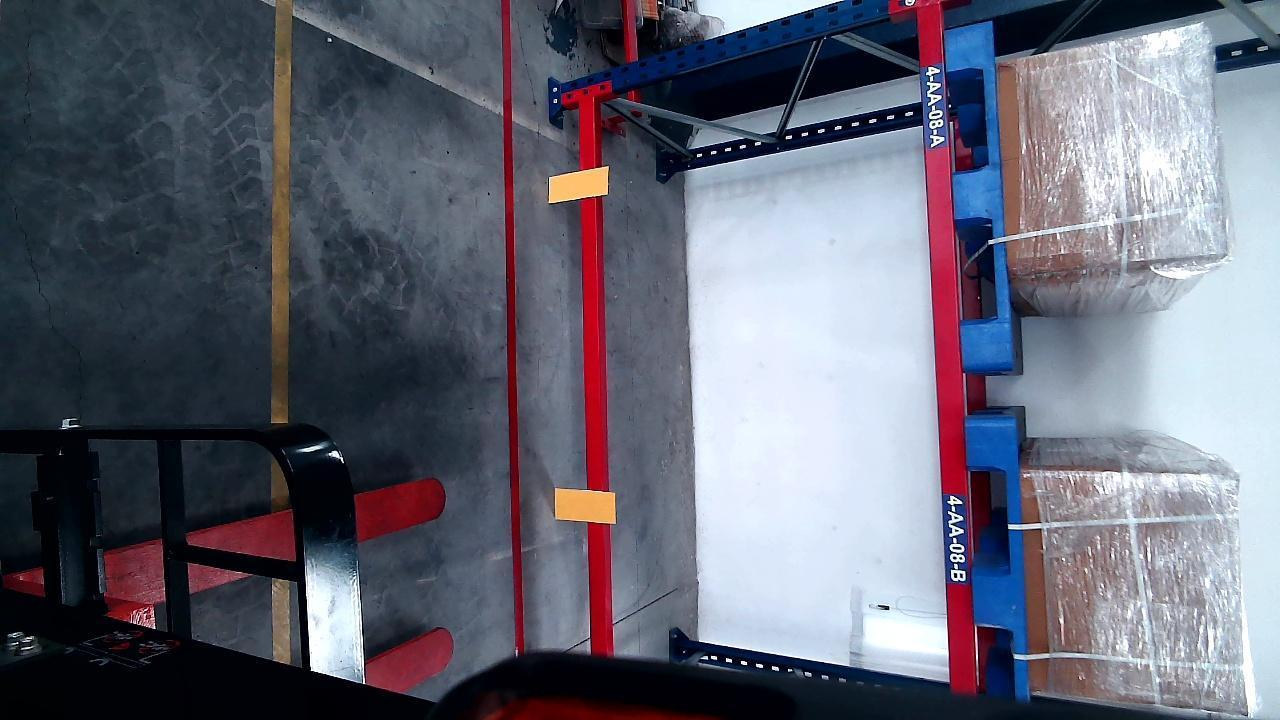h_rack: (918, 0, 975, 695), (577, 94, 612, 659)
orange_strip: (548, 166, 609, 202), (554, 488, 614, 523)
red_line: (498, 1, 527, 653)
small_pallet: (944, 16, 1011, 367), (969, 425, 1028, 689)
yellow_line: (268, 0, 294, 416)
